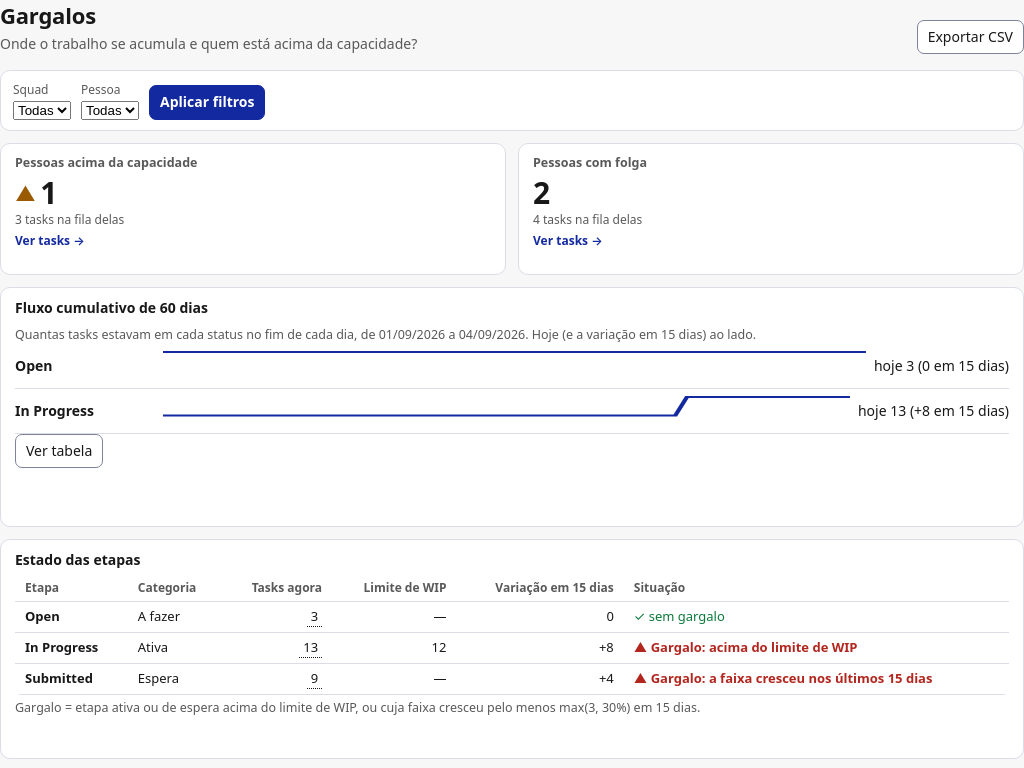
tela Gargalos e fluxo › fluxoTemTabelaEquivalenteAcessivel
Expected: the text "hoje 13 (+8 em 15 dias)" is shown, x1=858 y1=401 x2=1009 y2=421
Click the button "Ver tabela".
click(59, 451)  # box x1=15 y1=434 x2=103 y2=468
(page scrolled)
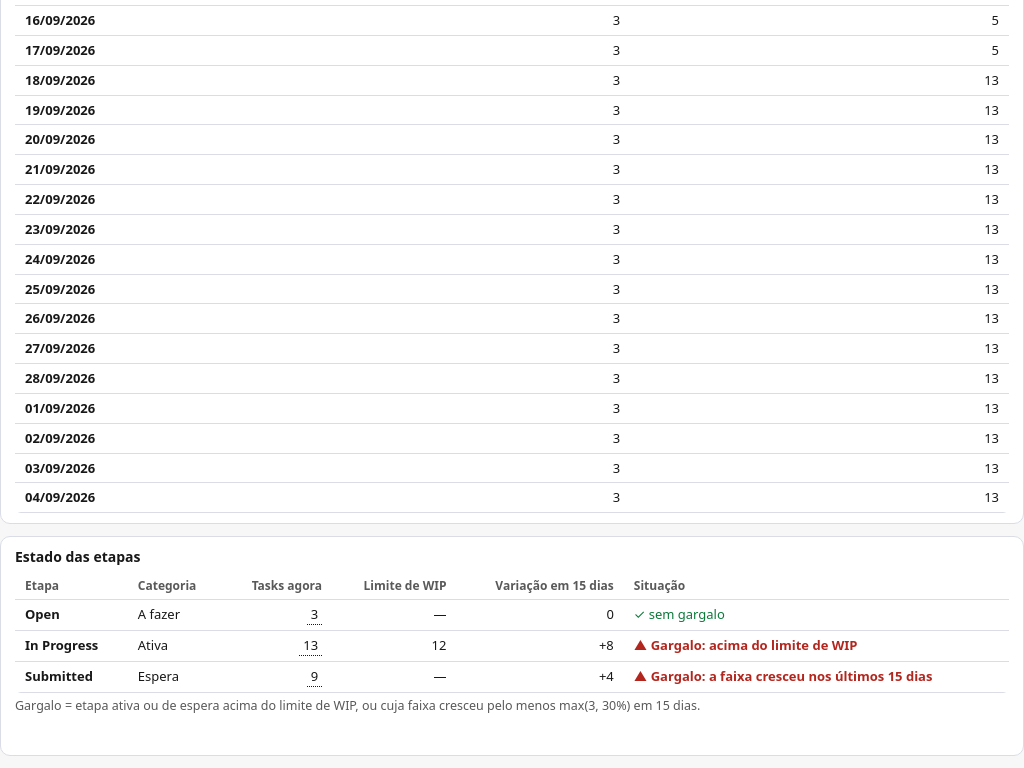
Result: the row "04/09/2026 3 13" is shown at x1=15 y1=483 x2=1009 y2=513
